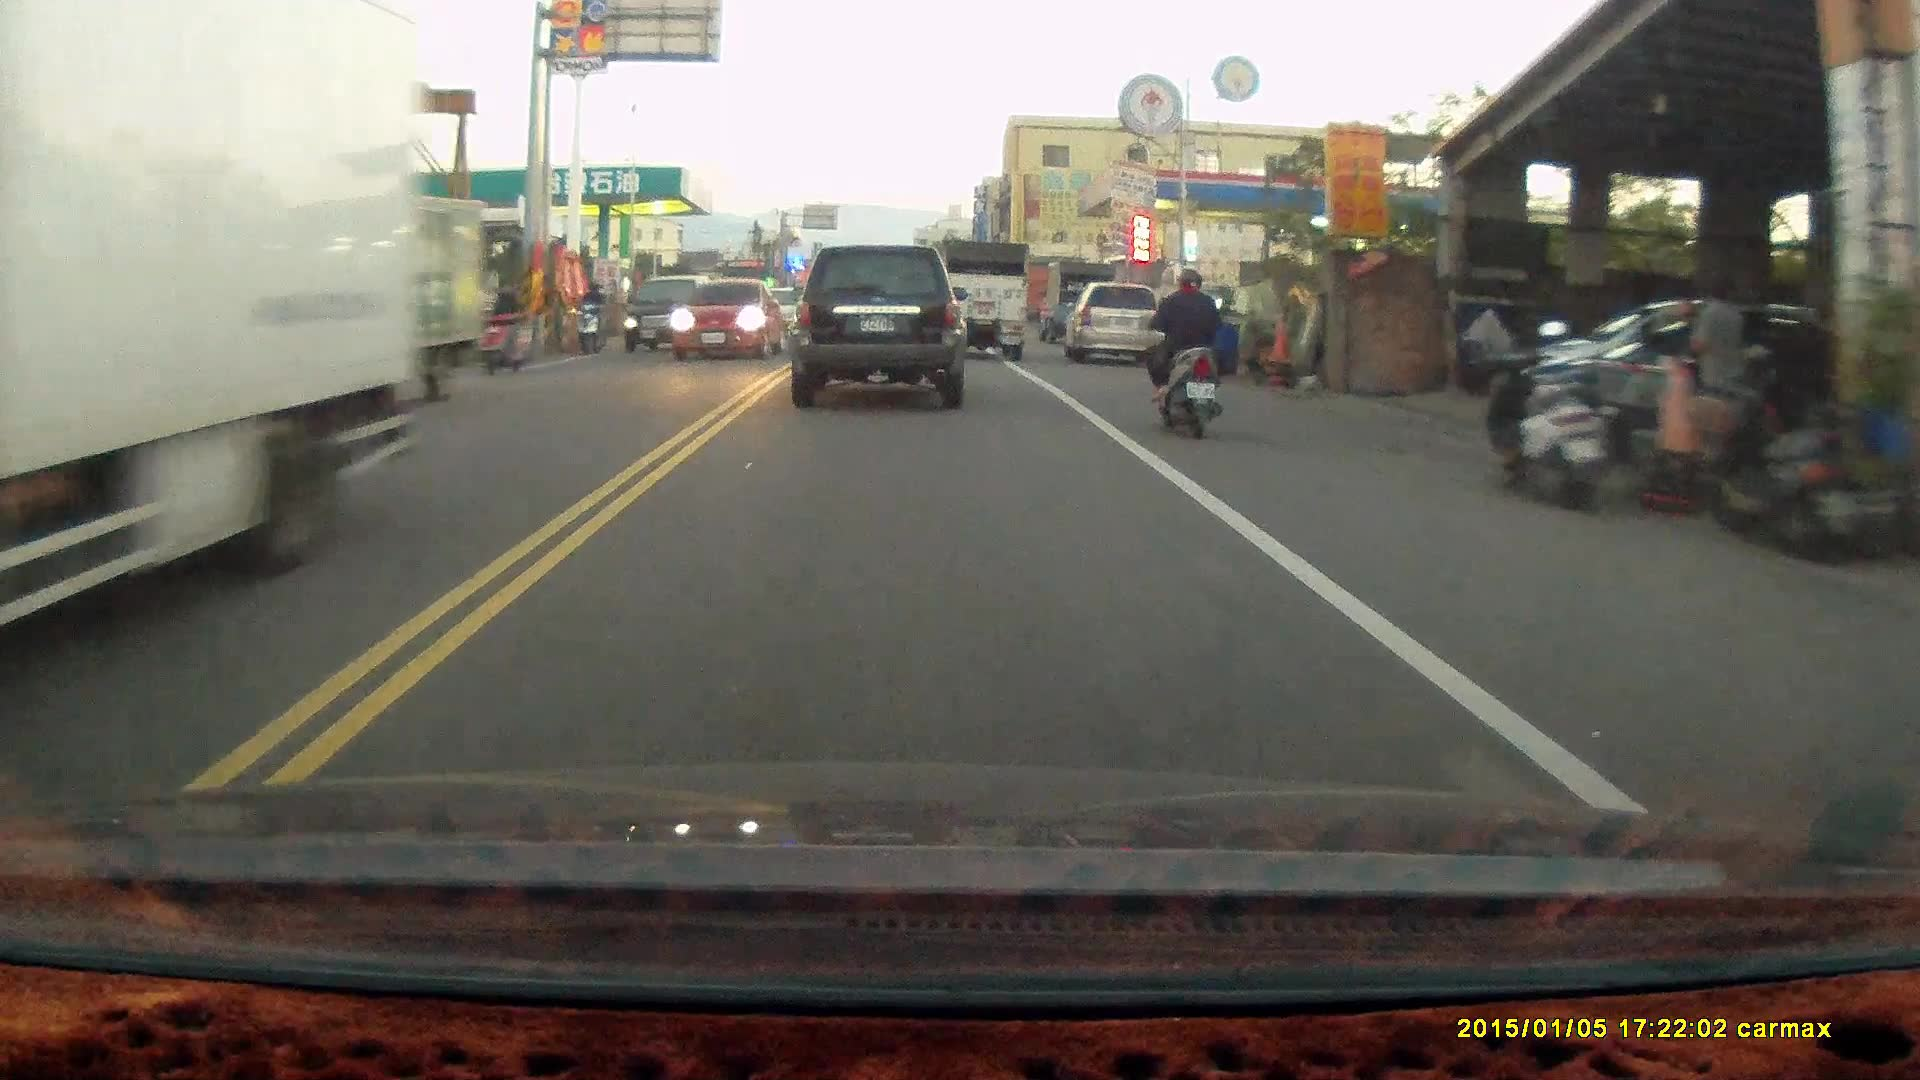pedestrian: (1689, 281, 1746, 435)
rider: (1142, 268, 1234, 444), (469, 280, 537, 373), (575, 279, 610, 353)
vehicle: (1, 22, 417, 664), (785, 243, 968, 412), (938, 238, 1031, 361), (671, 284, 790, 362), (1068, 284, 1164, 370), (623, 276, 717, 354)
